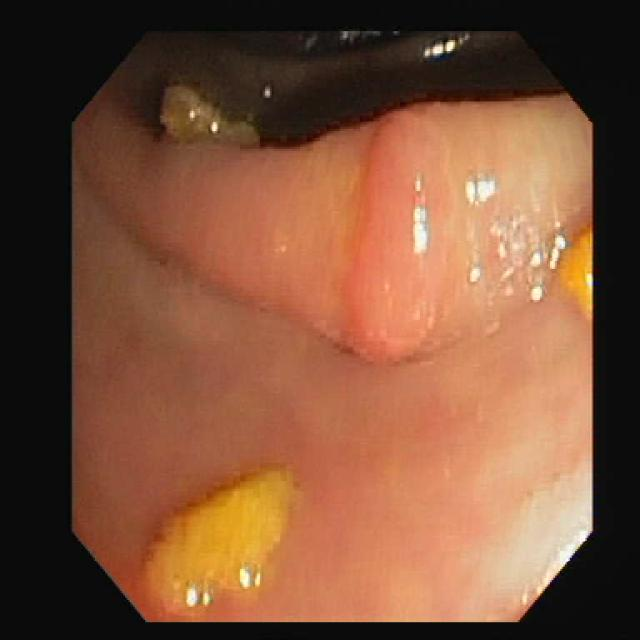tumor: (347, 104, 457, 358)
